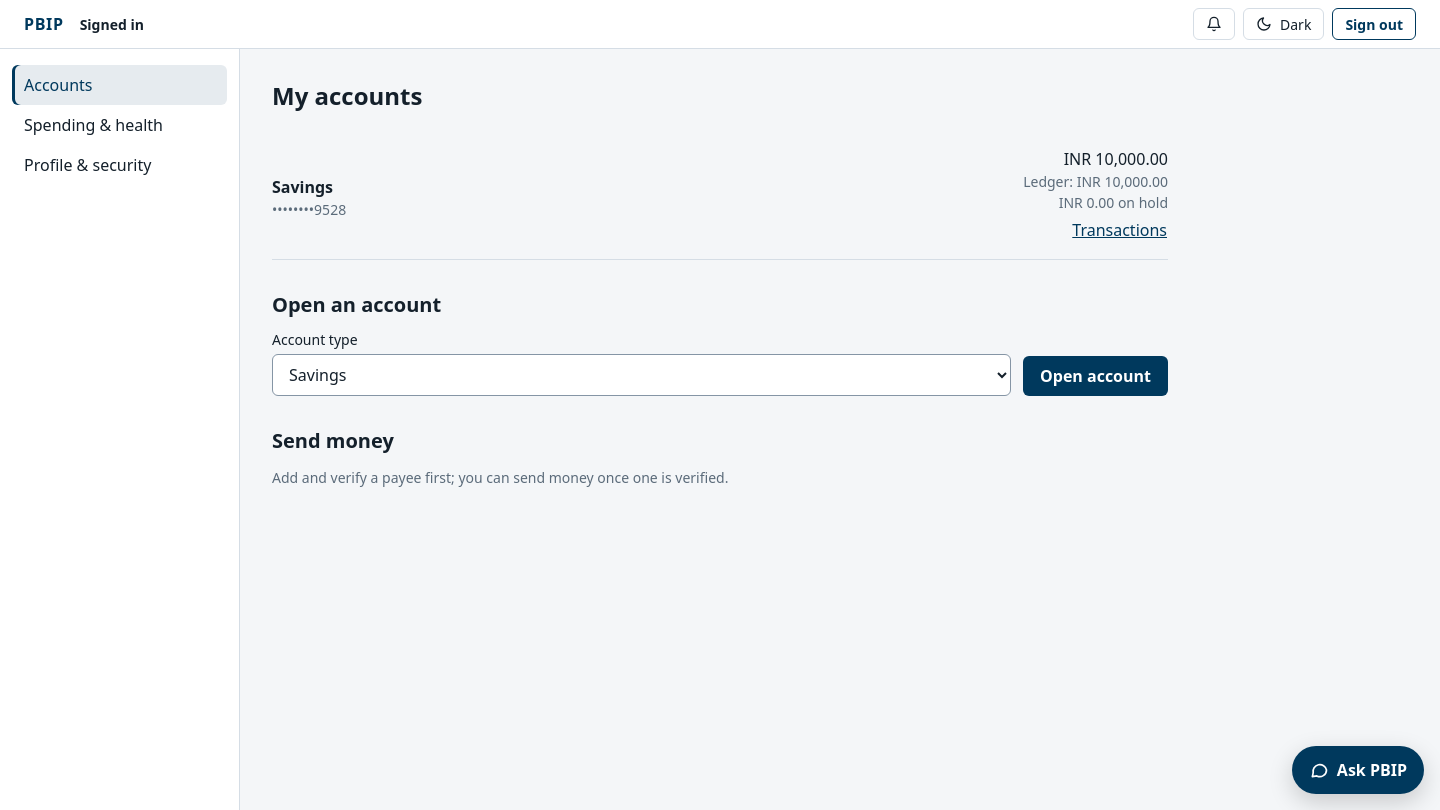
Test: opening an account › explains the five-account limit
The image size is (1440, 810).
Click the button "Open account": (1096, 376) x1=1023 y1=356 x2=1168 y2=396
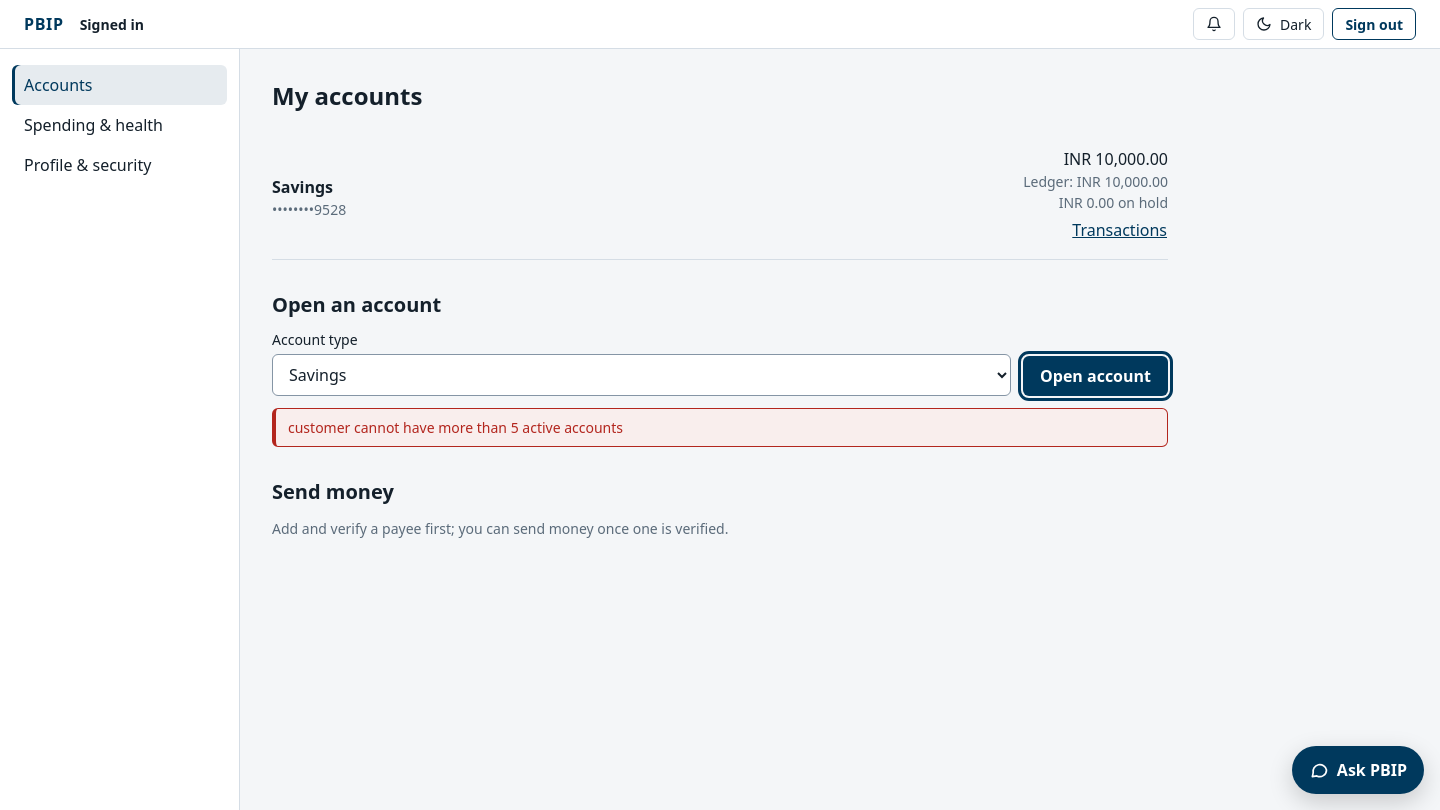
Now the message shows "more than 5 active accounts", box x1=288 y1=418 x2=623 y2=437
